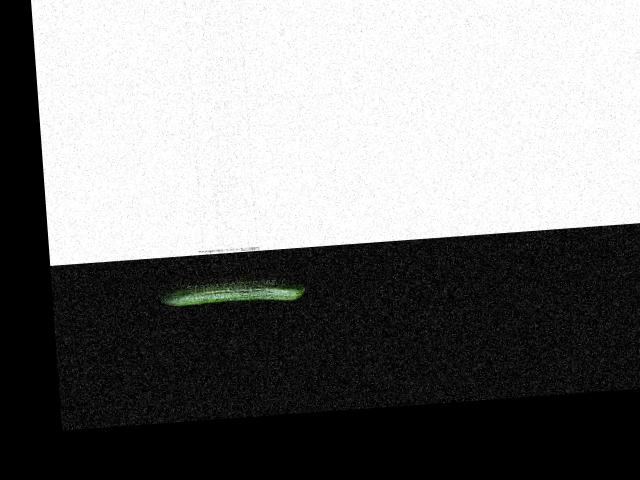cucumber: (158, 276, 306, 308)
